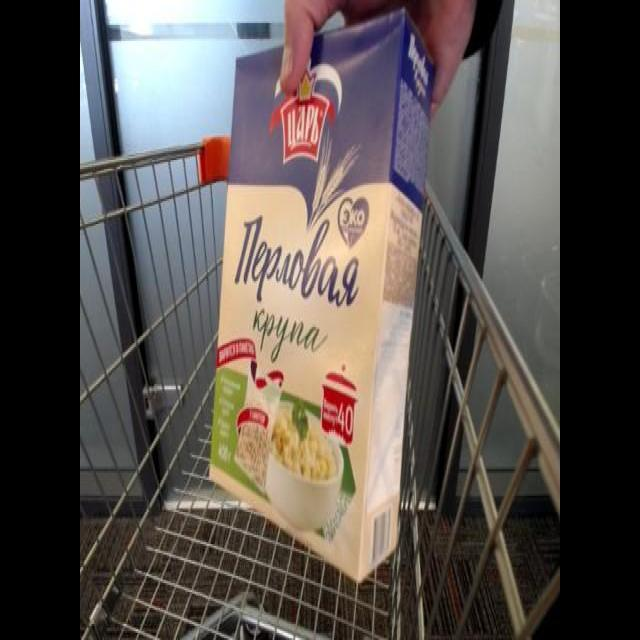Groats: (200, 7, 440, 590)
